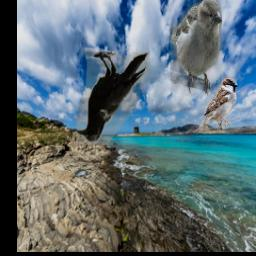Crow: (76, 48, 150, 145)
Sparrow: (171, 0, 223, 96), (196, 77, 237, 132)
